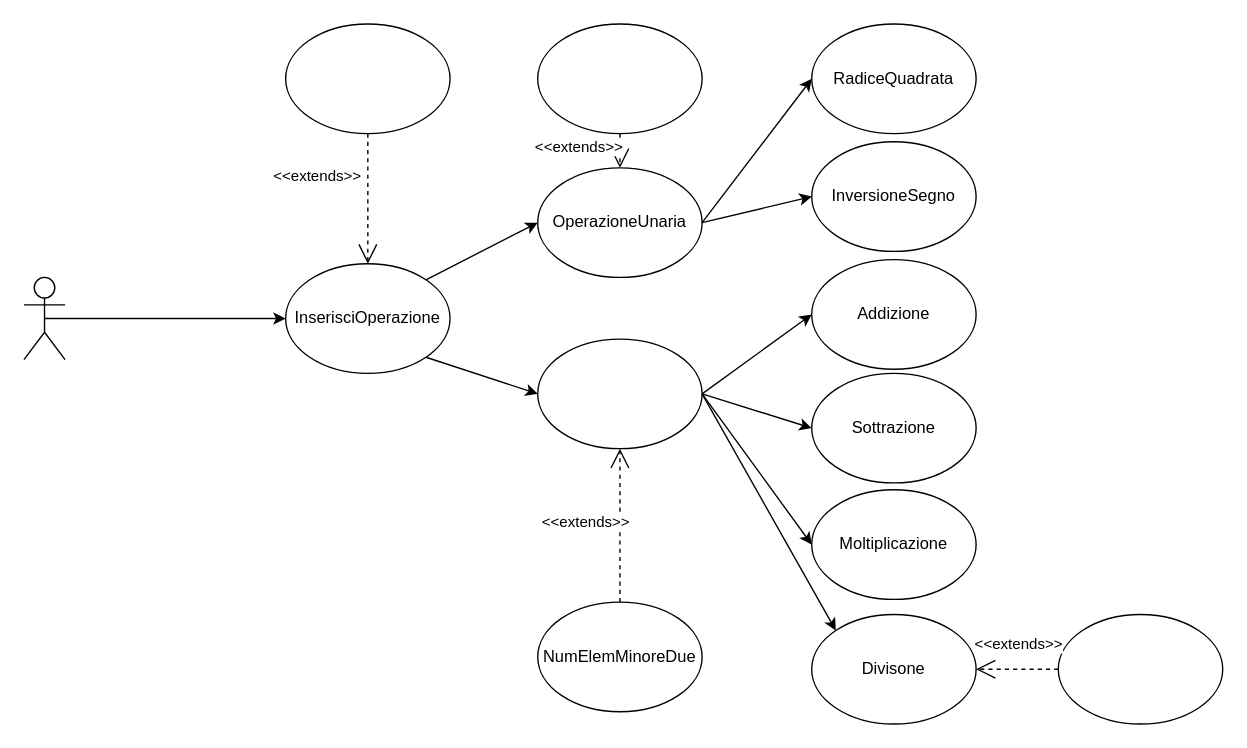
The diagram is 1247 pixels wide and 748 high, and some of its shapes have lost their labels. The shapes that lost their labels are listed below. From the top down, each one's centre as x and y in pixels, then its label:
At [367,78]: "FormatoNonValido".
At [619,78]: "NumElemMinoreUno".
At [44,318]: "Actor".
At [619,393]: "OperazioneBinaria".
At [1140,668]: "DivisionePerZero".
